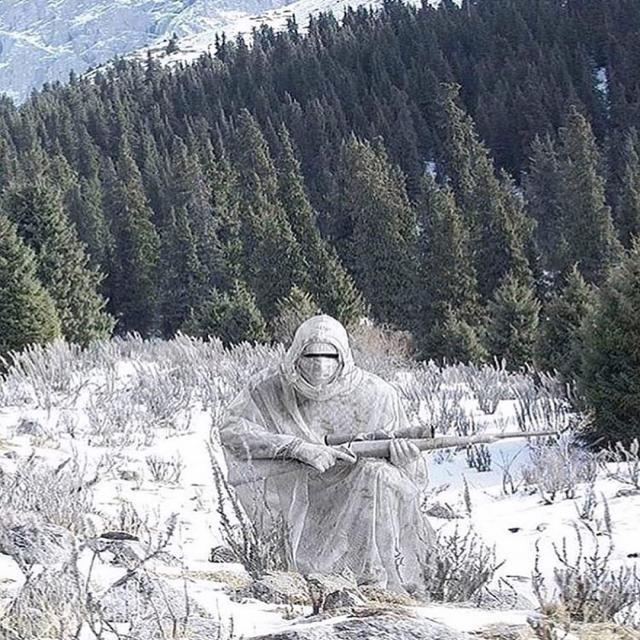Camouflage: (216, 313, 565, 584)
